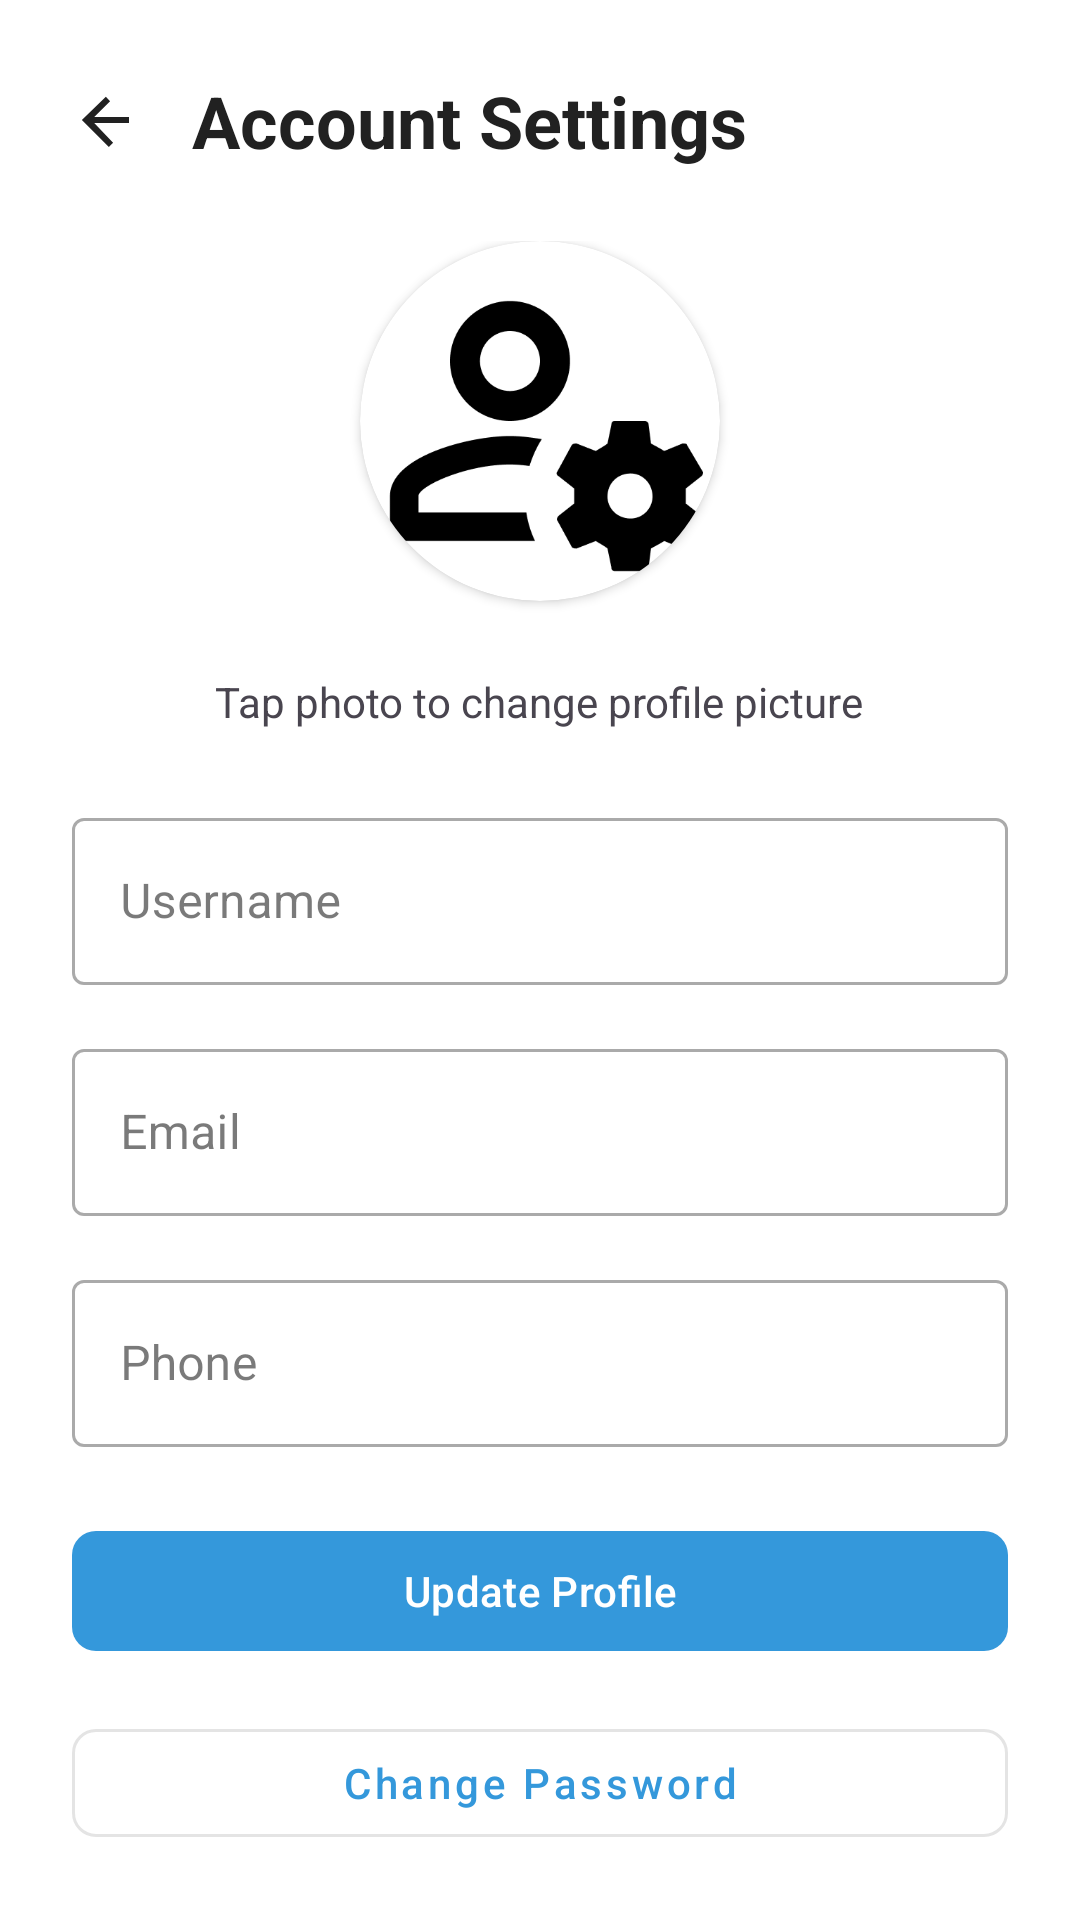

Named icons in this screenshot (1080×1920) and their centers, (x,y):
Back: (105,122)
